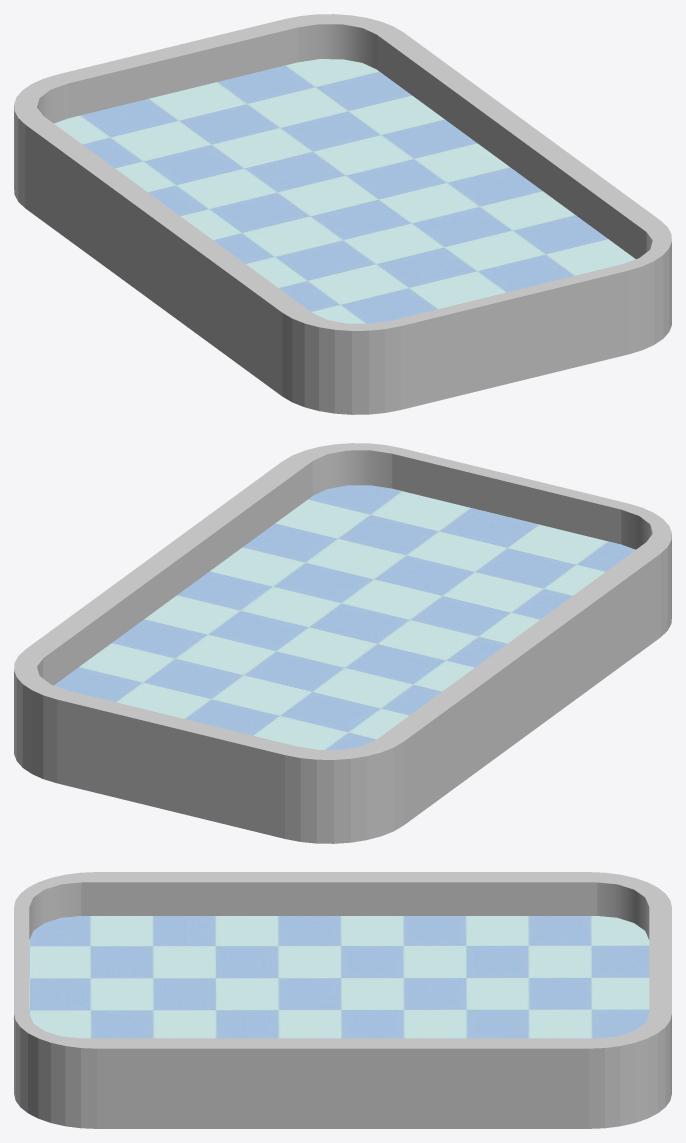
Rendered from Bascket_platform.fbx.
3 renders of one model, top to bottom at view 1: azimuth 30°, elevation 25°; view 2: azimuth 150°, elevation 25°; view 3: azimuth 270°, elevation 25°, orthographic. The views are drawn at different scales.
Visible parts, largest first — view 1: Cube, Cube.001; view 2: Cube, Cube.001; view 3: Cube, Cube.001.
Boxes of the visible parts, left/top/right/bottom form: Cube: left=14, top=14, right=671, bottom=414; Cube.001: left=54, top=59, right=635, bottom=323; Cube: left=14, top=443, right=671, bottom=843; Cube.001: left=54, top=485, right=635, bottom=749; Cube: left=14, top=872, right=671, bottom=1128; Cube.001: left=29, top=916, right=649, bottom=1038.
Bounding box in the file's own units: 68.07 × 14.42 × 107.
